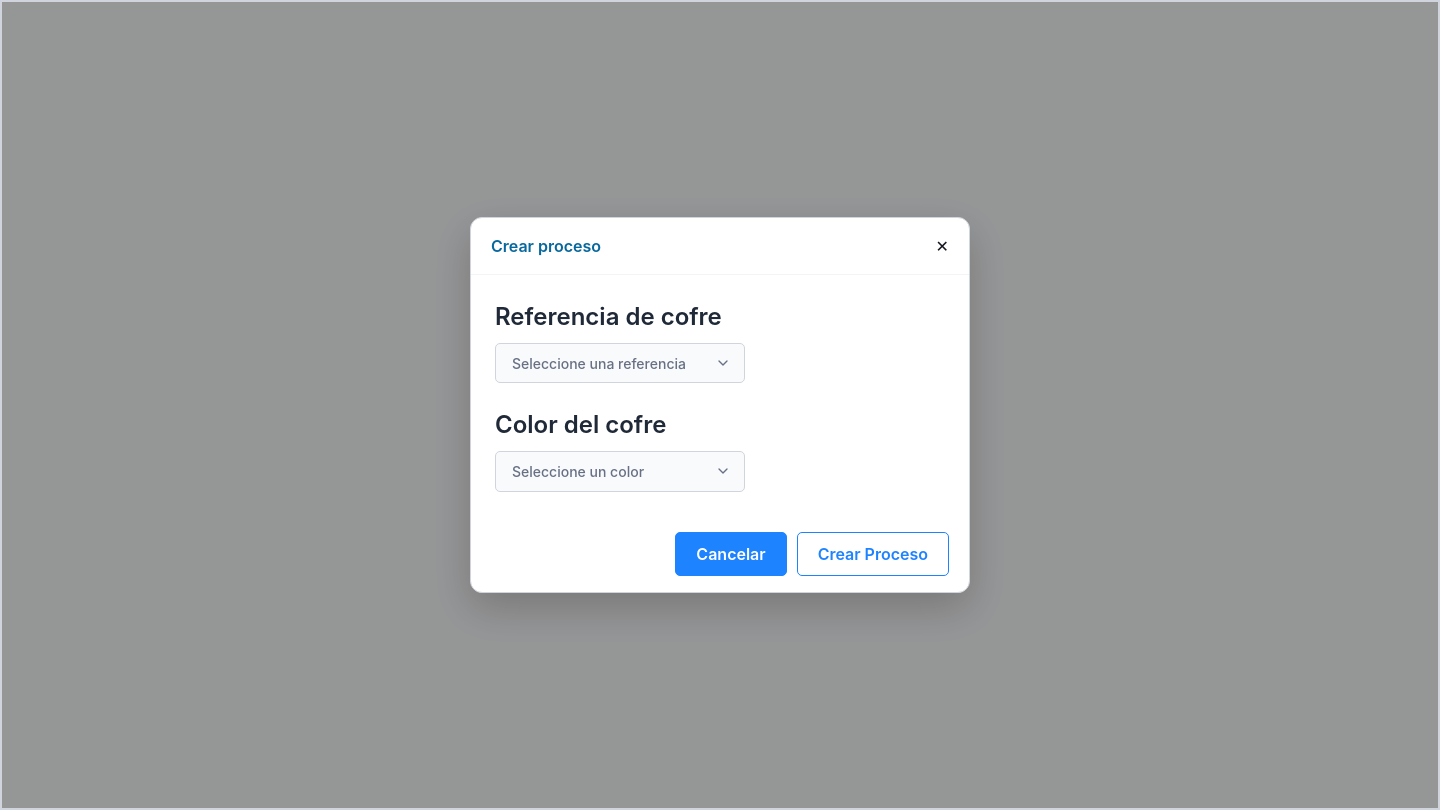
Test: Test Caja Blanca - Crear Proceso › CP-1.2: Debe mostrar error si no hay referencia seleccionada
Click the button "Crear Proceso": coordinates (873, 554) [797,532,949,576]
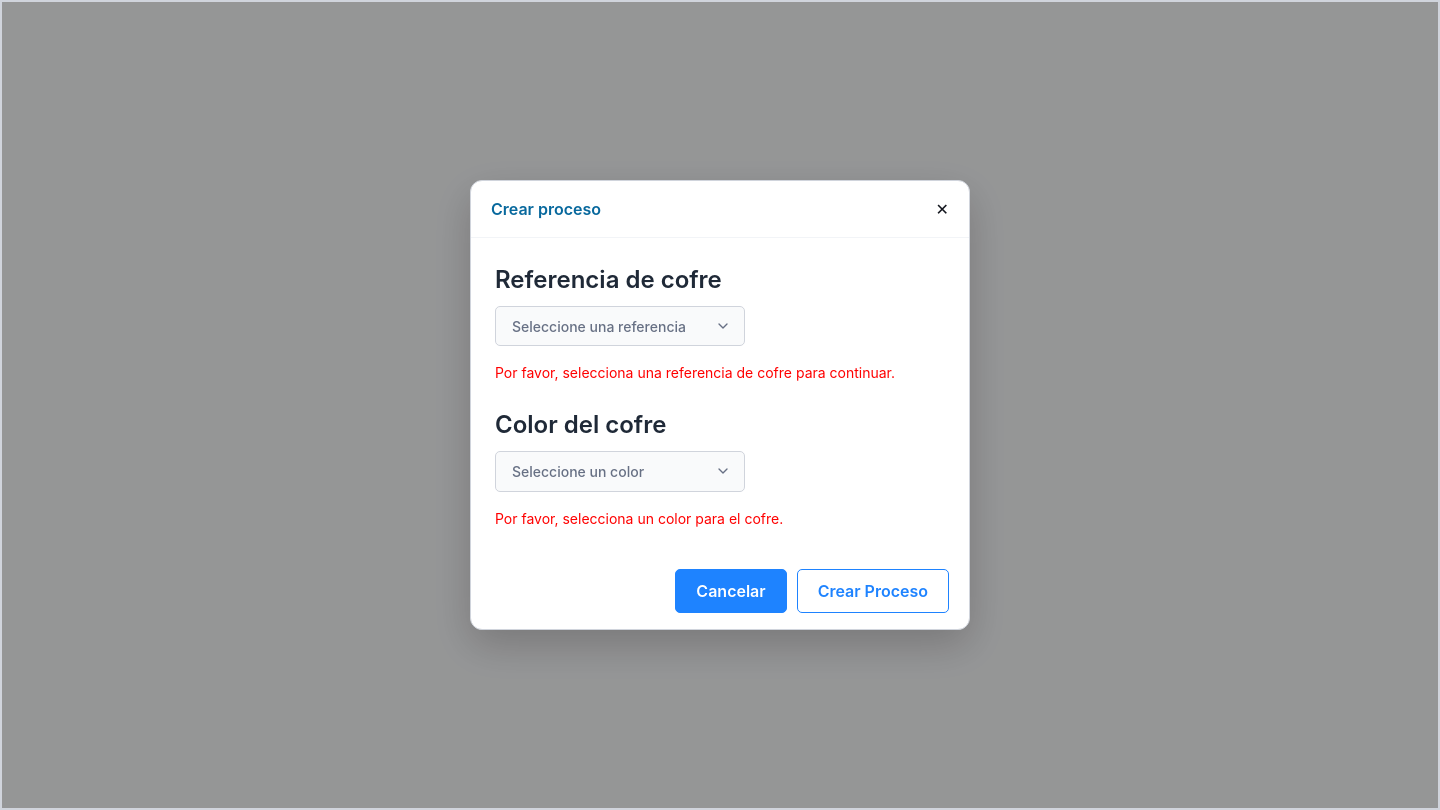
Expected: the text "Por favor, selecciona una referencia de cofre" is shown, [495,364,895,381]
